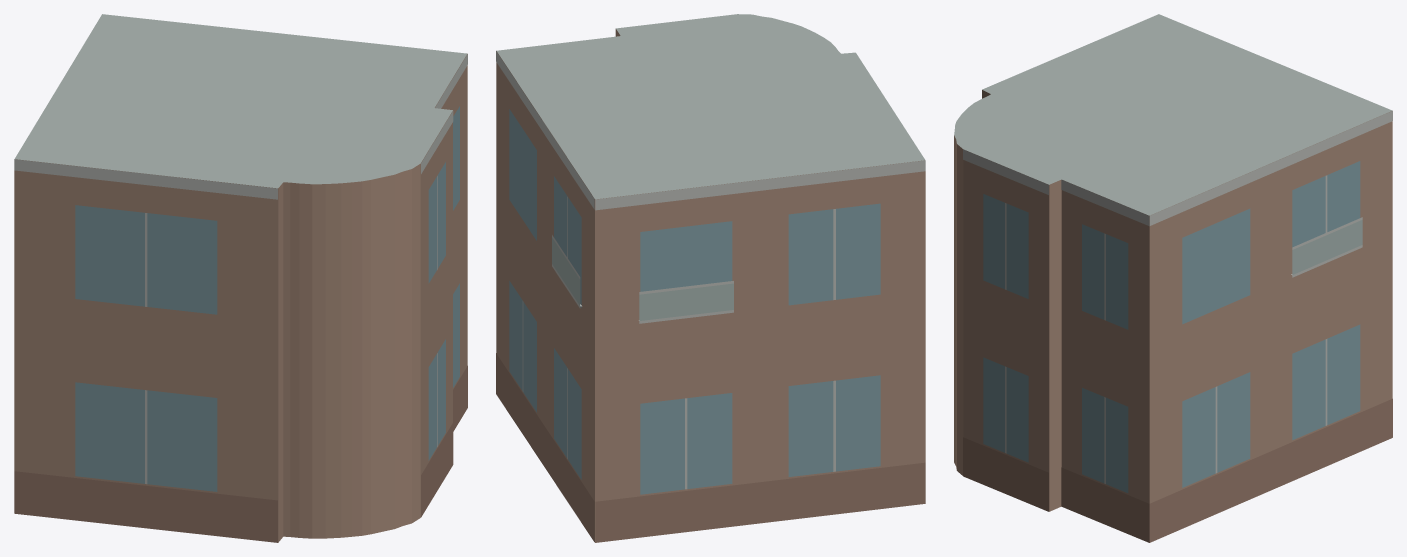
File: survey-upis-32646348.glb
3 renders of one model, left to right at view 1: azimuth 30°, elevation 25°; view 2: azimuth 150°, elevation 25°; view 3: azimuth 270°, elevation 25°, orthographic. The views are drawn at different scales.
Visible parts, largest first — view 1: survey-upis-32646348.tmp; view 2: survey-upis-32646348.tmp; view 3: survey-upis-32646348.tmp.
Part boxes in pixels (box(x1,y1,x2,y2)): survey-upis-32646348.tmp: box(14, 14, 467, 542); survey-upis-32646348.tmp: box(496, 14, 925, 542); survey-upis-32646348.tmp: box(954, 14, 1392, 542).
Bounding box in the file's own units: 10.06 × 7.6 × 9.24.
